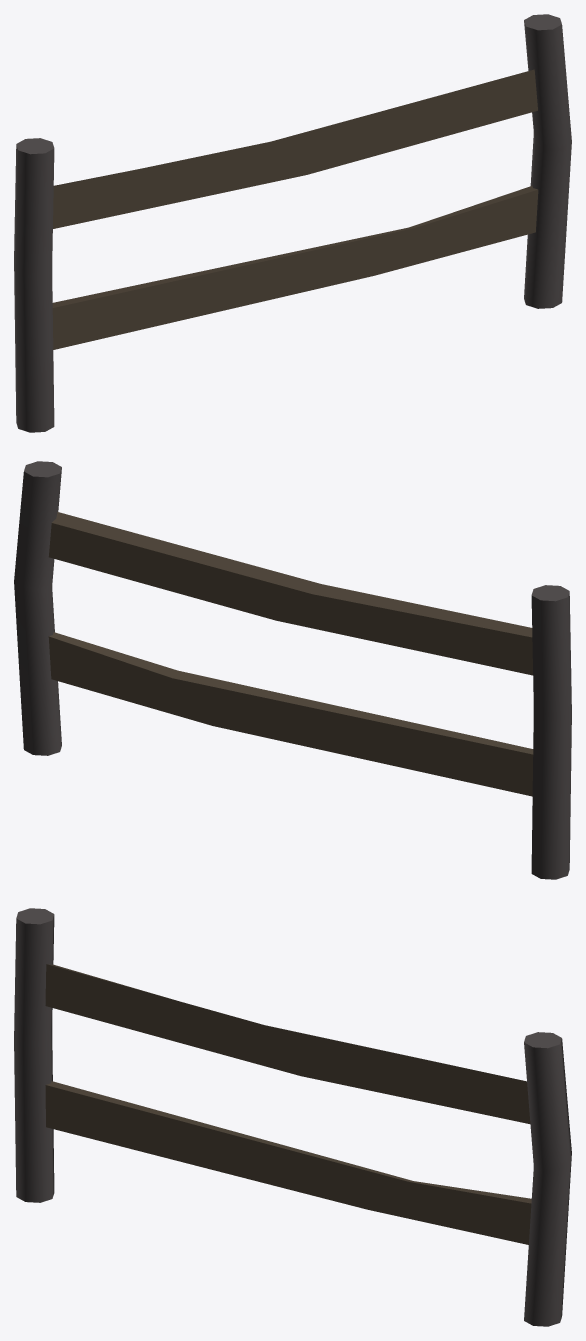
File: Fence.glb
3 renders of one model, top to bottom at view 1: azimuth 30°, elevation 25°; view 2: azimuth 150°, elevation 25°; view 3: azimuth 330°, elevation 25°, orthographic.
Visible parts, largest first — view 1: SM_PicketFence:SM_PicketFence1; view 2: SM_PicketFence:SM_PicketFence1; view 3: SM_PicketFence:SM_PicketFence1.
Part boxes in pixels (bbox=[...]): SM_PicketFence:SM_PicketFence1: bbox=[14, 14, 571, 432]; SM_PicketFence:SM_PicketFence1: bbox=[14, 461, 571, 879]; SM_PicketFence:SM_PicketFence1: bbox=[14, 908, 571, 1326].
Bounding box in the file's own units: 2.09 × 1.01 × 0.1294.
